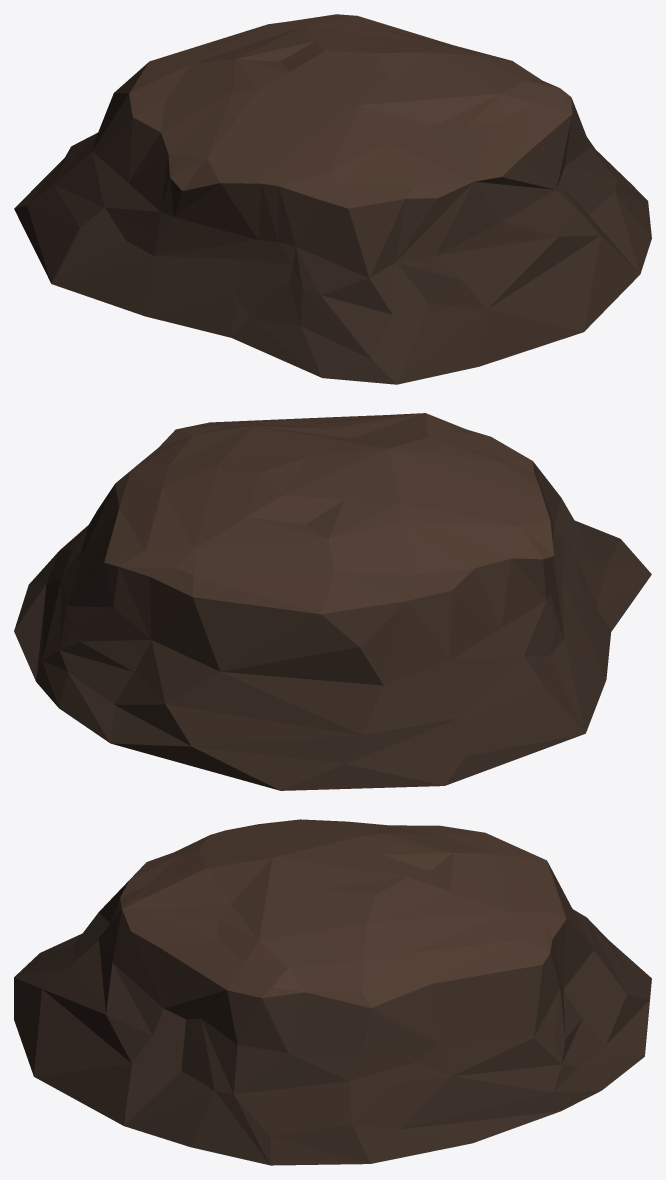
File: synty-terrain-grassedge-04.gltf
3 views of the same model, one above another, from view 1: azimuth 30°, elevation 25°; view 2: azimuth 150°, elevation 25°; view 3: azimuth 270°, elevation 25° (orthographic). The views are drawn at different scales.
Parts seen in each view (by area): view 1: SM_Terrain_GrassEdge_04; view 2: SM_Terrain_GrassEdge_04; view 3: SM_Terrain_GrassEdge_04.
Part boxes in pixels (x1=…): SM_Terrain_GrassEdge_04: x1=14, y1=14, x2=651, y2=384; SM_Terrain_GrassEdge_04: x1=14, y1=413, x2=651, y2=790; SM_Terrain_GrassEdge_04: x1=14, y1=819, x2=651, y2=1165.
Bounding box in the file's own units: 6.76 × 2 × 6.93.
1 material, 1 textured.
